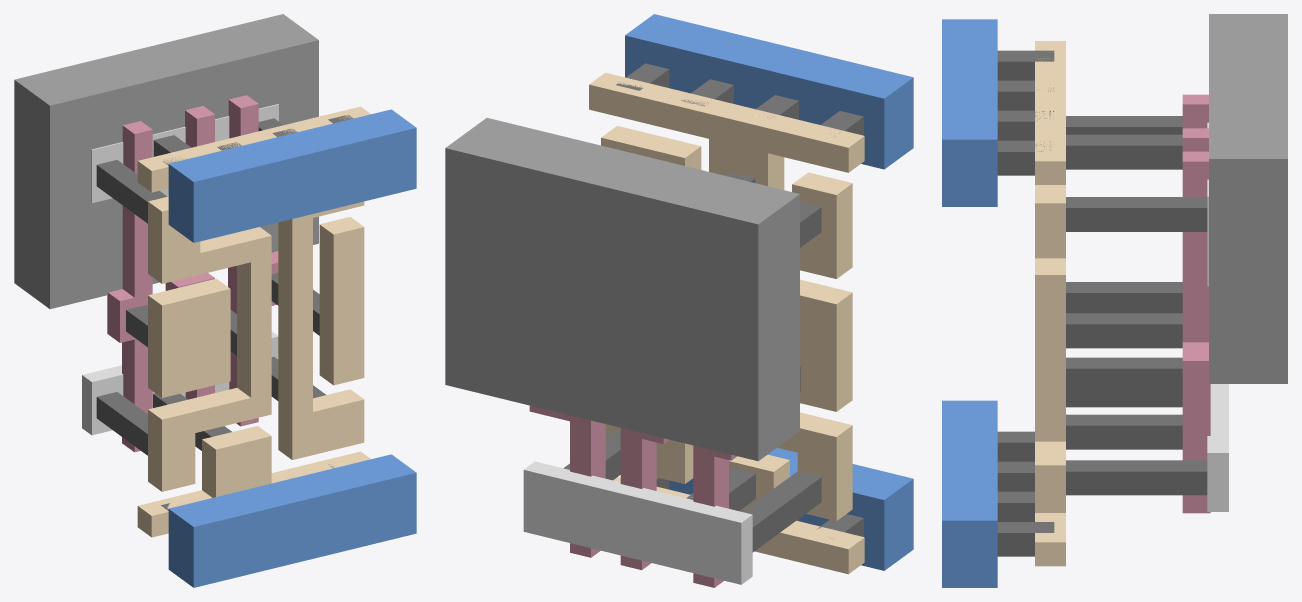
Rendered from sky130_fd_sc_hd__einvn_0.gds.gltf.
The picture shows the model from 3 angles, left to right: view 1: azimuth 30°, elevation 25°; view 2: azimuth 150°, elevation 25°; view 3: azimuth 270°, elevation 25°; orthographic projection. The views are drawn at different scales.
Visible parts, largest first — view 1: sky130_fd_sc_hd__einvn_0_li1, sky130_fd_sc_hd__einvn_0_met1, sky130_fd_sc_hd__einvn_0_nwell, sky130_fd_sc_hd__einvn_0_poly, sky130_fd_sc_hd__einvn_0_licon, sky130_fd_sc_hd__einvn_0_diff; view 2: sky130_fd_sc_hd__einvn_0_nwell, sky130_fd_sc_hd__einvn_0_li1, sky130_fd_sc_hd__einvn_0_met1, sky130_fd_sc_hd__einvn_0_diff, sky130_fd_sc_hd__einvn_0_poly, sky130_fd_sc_hd__einvn_0_licon, sky130_fd_sc_hd__einvn_0_mcon; view 3: sky130_fd_sc_hd__einvn_0_licon, sky130_fd_sc_hd__einvn_0_nwell, sky130_fd_sc_hd__einvn_0_met1, sky130_fd_sc_hd__einvn_0_li1, sky130_fd_sc_hd__einvn_0_mcon, sky130_fd_sc_hd__einvn_0_poly, sky130_fd_sc_hd__einvn_0_diff.
Part boxes in pixels (<box>): sky130_fd_sc_hd__einvn_0_li1: <box>137,106,370,537</box>; sky130_fd_sc_hd__einvn_0_met1: <box>168,109,416,587</box>; sky130_fd_sc_hd__einvn_0_nwell: <box>14,14,318,308</box>; sky130_fd_sc_hd__einvn_0_poly: <box>107,95,278,452</box>; sky130_fd_sc_hd__einvn_0_licon: <box>96,118,325,455</box>; sky130_fd_sc_hd__einvn_0_diff: <box>82,104,278,435</box>; sky130_fd_sc_hd__einvn_0_nwell: <box>445,118,799,461</box>; sky130_fd_sc_hd__einvn_0_li1: <box>589,72,864,574</box>; sky130_fd_sc_hd__einvn_0_met1: <box>625,14,913,570</box>; sky130_fd_sc_hd__einvn_0_diff: <box>523,461,752,584</box>; sky130_fd_sc_hd__einvn_0_poly: <box>529,405,736,587</box>; sky130_fd_sc_hd__einvn_0_licon: <box>563,172,821,552</box>; sky130_fd_sc_hd__einvn_0_mcon: <box>616,63,863,538</box>; sky130_fd_sc_hd__einvn_0_licon: <box>1066,116,1207,495</box>; sky130_fd_sc_hd__einvn_0_nwell: <box>1209,14,1287,383</box>; sky130_fd_sc_hd__einvn_0_met1: <box>942,19,997,587</box>; sky130_fd_sc_hd__einvn_0_li1: <box>1035,41,1065,566</box>; sky130_fd_sc_hd__einvn_0_mcon: <box>997,50,1054,556</box>; sky130_fd_sc_hd__einvn_0_poly: <box>1182,94,1210,513</box>; sky130_fd_sc_hd__einvn_0_diff: <box>1207,122,1228,511</box>.
Bounding box in the file's own units: 2.22 × 3.2 × 2.24.
